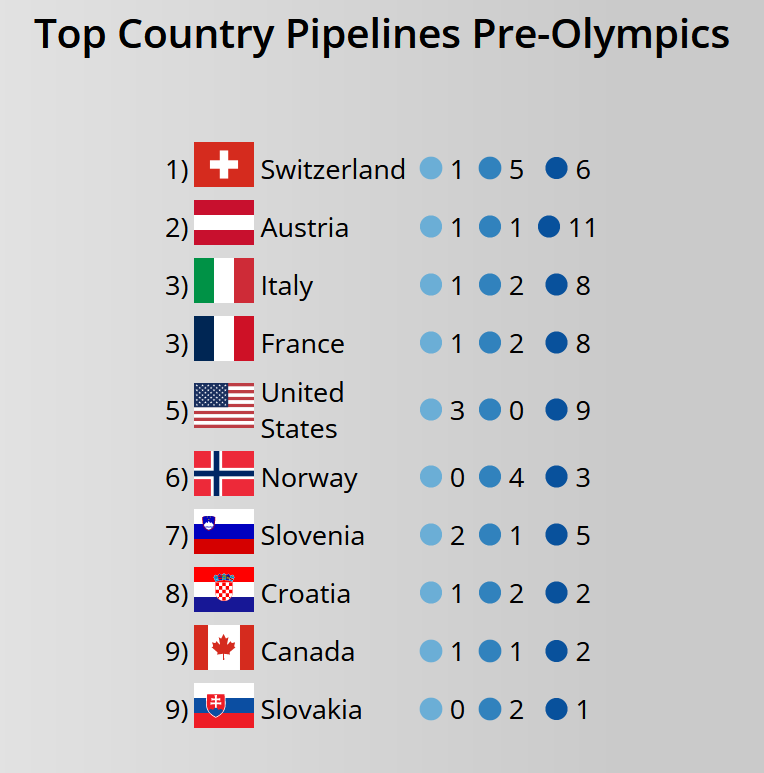

The dashboard page shown, as its layout file describes it:
{"tool":"tableau","page":{"name":"Dashboard 1","canvas":[1000,1000],"units":"permille","ordinal":0},"visuals":[{"type":"worksheet","title":"Sheet 1","mark":"Automatic","box":[2.1,4.2,888.5,991.5]},{"type":"filter","title":"Sheet 1","param":"[federated.146amrn0jlxjl911misc91clc58j].[none:Medal:ok]","box":[890.6,4.2,107.3,47.2]},{"type":"filter","title":"Sheet 1","param":"[federated.146amrn0jlxjl911misc91clc58j].[none:USOC Master Competition Set Name:","box":[890.6,51.4,107.3,150.1]},{"type":"legend","title":"Sheet 1","param":"[federated.146amrn0jlxjl911misc91clc58j].[cnt:Medal:qk]","box":[890.6,201.5,107.3,43]},{"type":"filter","title":"Sheet 1","param":"[federated.146amrn0jlxjl911misc91clc58j].[none:Event Gender:nk]","box":[890.6,244.4,107.3,64.2]},{"type":"filter","title":"Sheet 1","param":"[federated.146amrn0jlxjl911misc91clc58j].[none:Event Name Short:nk]","box":[890.6,308.6,107.3,121.4]}]}

Visuals, with their boxes on the dashboard's canvas, which has no fixed pixel size, in thousandths of its width and height (x1, y1, x2, y2). These are canvas units, not pixel positions in the 764x773 screenshot, which may show the page scaled, cropped or inside an application window:
"Sheet 1" worksheet: [2,4,891,996]
"Sheet 1" filter: [891,4,998,51]
"Sheet 1" filter: [891,51,998,202]
"Sheet 1" legend: [891,202,998,244]
"Sheet 1" filter: [891,244,998,309]
"Sheet 1" filter: [891,309,998,430]
